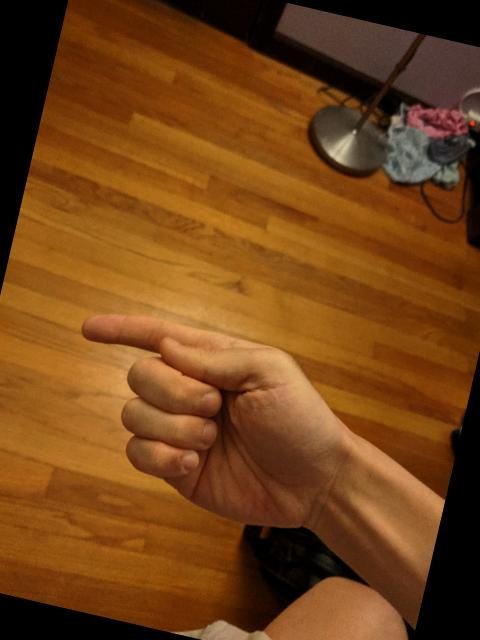G: (40, 294, 351, 544)
